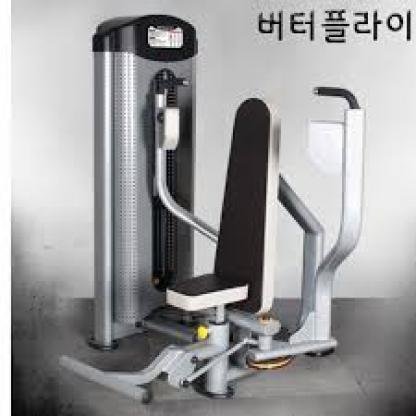chest fly machine: (36, 0, 375, 404)
